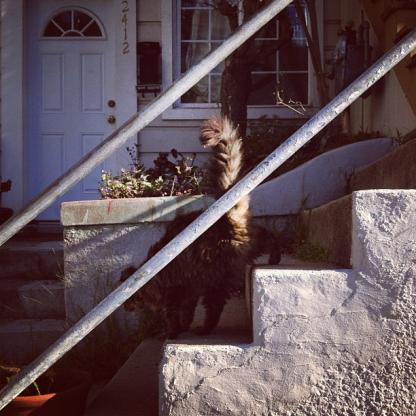Target: (106, 118, 288, 341)
